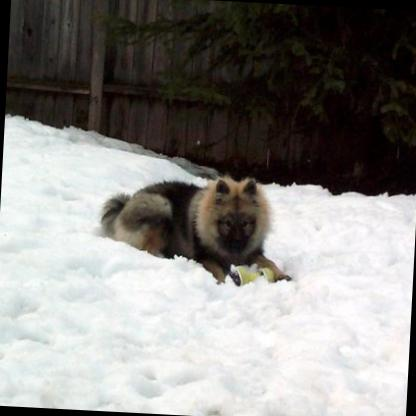keeshond: (94, 169, 296, 287)
